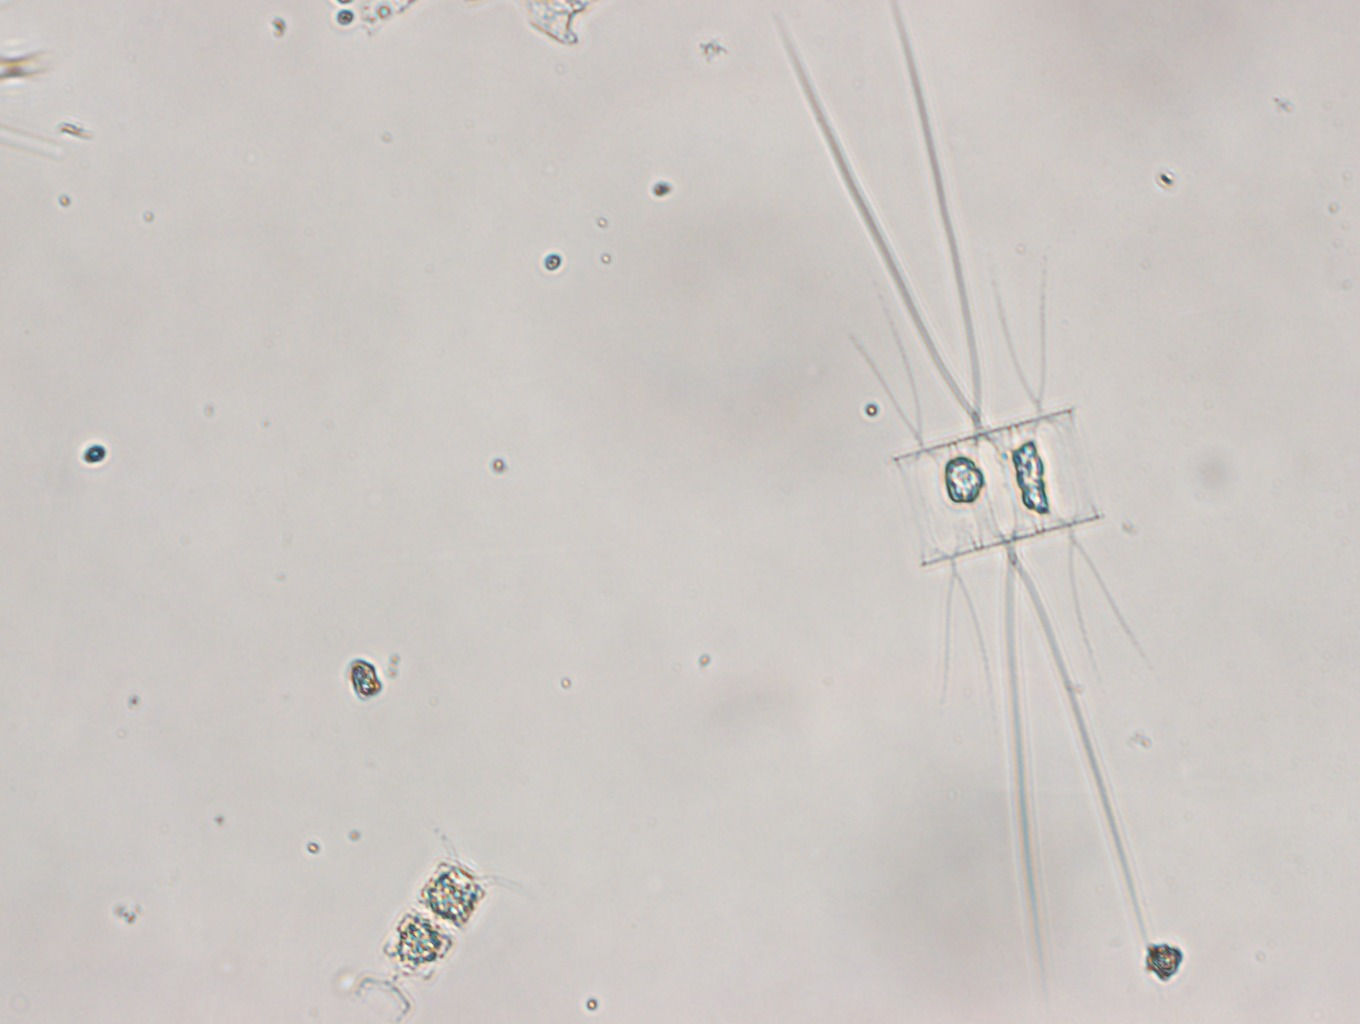chaetoceros: (768, 1, 1155, 989), (345, 826, 520, 1022)
